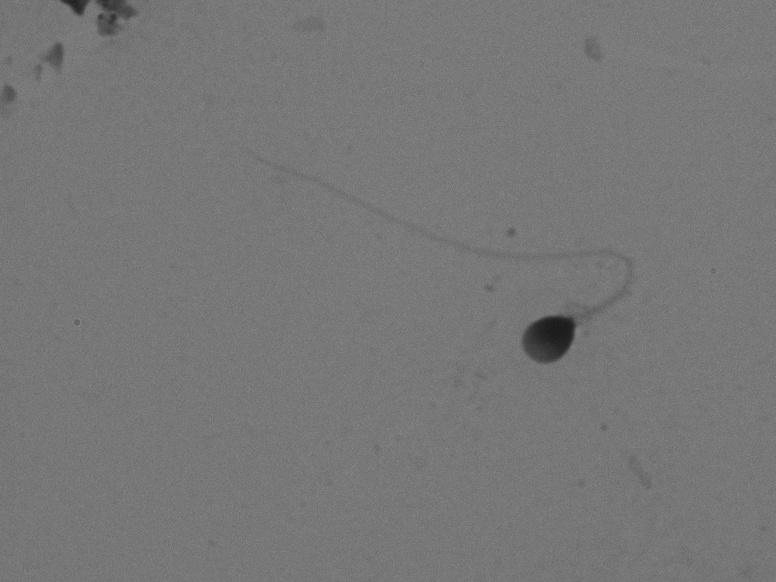Normal: (188, 145, 677, 377)
